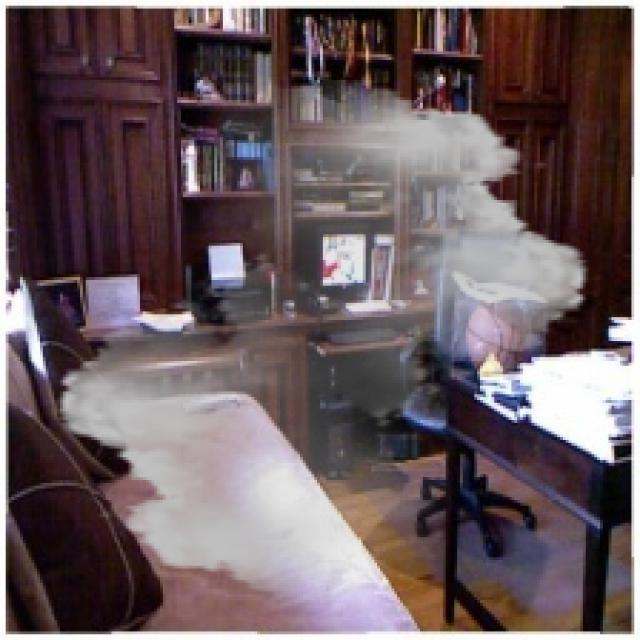Smoke: (40, 80, 606, 600)
